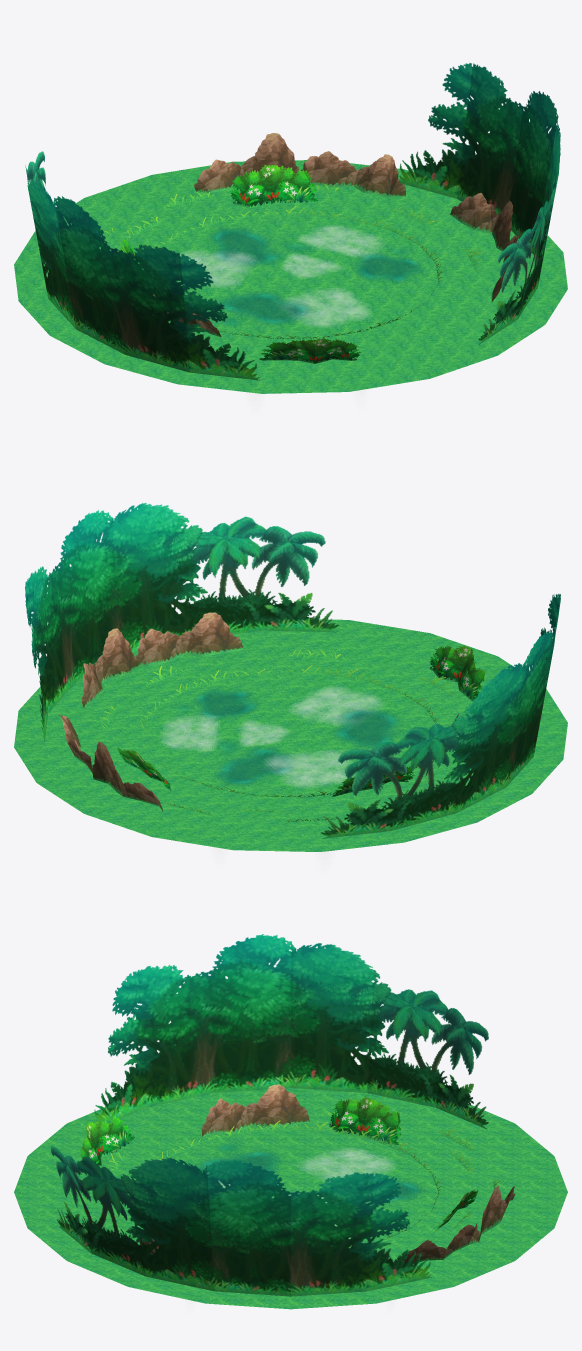
Rendered from grass_field.glb.
3 views of the same model, one above another, from view 1: azimuth 30°, elevation 25°; view 2: azimuth 150°, elevation 25°; view 3: azimuth 270°, elevation 25° (orthographic).
Visible parts, largest first — view 1: btl_G_kusa_jime03_OptMesh, btl_G_kusa_mori01_OptMesh, btl_G_kusa_jime01_OptMesh, btl_G_kusa_iwa01_OptMesh, btl_G_all_snow0m_OptMesh, btl_G_all_rain0m_OptMesh, btl_G_kusa_ueki01_OptMesh, btl_G_kusa_kusa01_OptMesh; view 2: btl_G_kusa_jime03_OptMesh, btl_G_kusa_mori01_OptMesh, btl_G_kusa_jime01_OptMesh, btl_G_kusa_iwa01_OptMesh, btl_G_all_snow0m_OptMesh, btl_G_all_rain0m_OptMesh, btl_G_kusa_ueki01_OptMesh, btl_G_kusa_kusa01_OptMesh; view 3: btl_G_kusa_mori01_OptMesh, btl_G_kusa_jime03_OptMesh, btl_G_kusa_jime01_OptMesh, btl_G_kusa_iwa01_OptMesh, btl_G_kusa_ueki01_OptMesh, btl_G_all_snow0m_OptMesh, btl_G_kusa_kusa01_OptMesh, btl_G_all_rain0m_OptMesh.
Boxes of the visible parts, x1,y1,x2,y2 form: btl_G_kusa_jime03_OptMesh: [44, 181, 534, 381]; btl_G_kusa_mori01_OptMesh: [25, 63, 560, 380]; btl_G_kusa_jime01_OptMesh: [14, 160, 567, 393]; btl_G_kusa_iwa01_OptMesh: [153, 133, 519, 336]; btl_G_all_snow0m_OptMesh: [180, 226, 381, 326]; btl_G_all_rain0m_OptMesh: [210, 227, 422, 325]; btl_G_kusa_ueki01_OptMesh: [120, 164, 361, 363]; btl_G_kusa_kusa01_OptMesh: [103, 183, 481, 338]; btl_G_kusa_jime03_OptMesh: [44, 630, 494, 839]; btl_G_kusa_mori01_OptMesh: [25, 503, 560, 838]; btl_G_kusa_jime01_OptMesh: [14, 619, 567, 851]; btl_G_kusa_iwa01_OptMesh: [58, 612, 459, 811]; btl_G_all_snow0m_OptMesh: [161, 687, 382, 787]; btl_G_all_rain0m_OptMesh: [176, 690, 409, 785]; btl_G_kusa_ueki01_OptMesh: [117, 645, 485, 796]; btl_G_kusa_kusa01_OptMesh: [101, 650, 453, 821]; btl_G_kusa_mori01_OptMesh: [50, 934, 488, 1296]; btl_G_kusa_jime03_OptMesh: [44, 1088, 537, 1277]; btl_G_kusa_jime01_OptMesh: [14, 1104, 567, 1309]; btl_G_kusa_iwa01_OptMesh: [139, 1084, 515, 1264]; btl_G_kusa_ueki01_OptMesh: [80, 1096, 477, 1231]; btl_G_all_snow0m_OptMesh: [208, 1148, 394, 1238]; btl_G_kusa_kusa01_OptMesh: [109, 1112, 501, 1248]; btl_G_all_rain0m_OptMesh: [198, 1143, 424, 1202].
Bounding box in the file's own units: 3551 × 1796 × 3551.
Materials: 9 (9 with a texture image).
